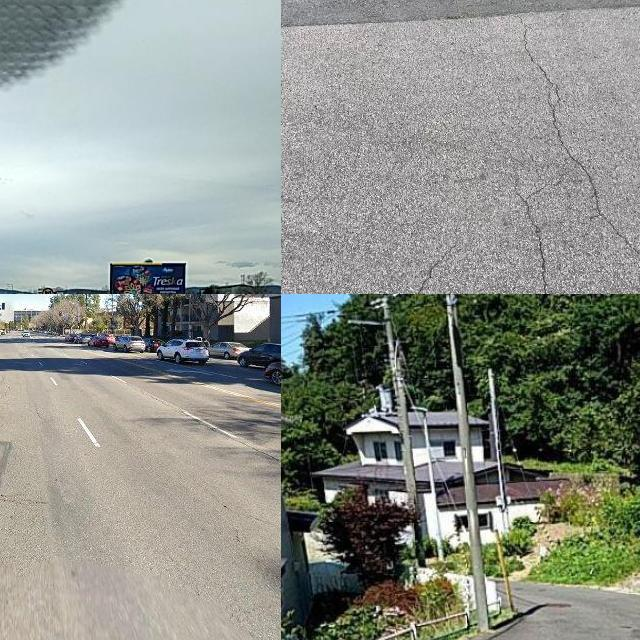Memanjang: (511, 14, 640, 288), (501, 180, 558, 294), (402, 231, 477, 294)
Sambungan: (626, 626, 640, 639)
